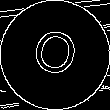O_S: (28, 25, 82, 85)
